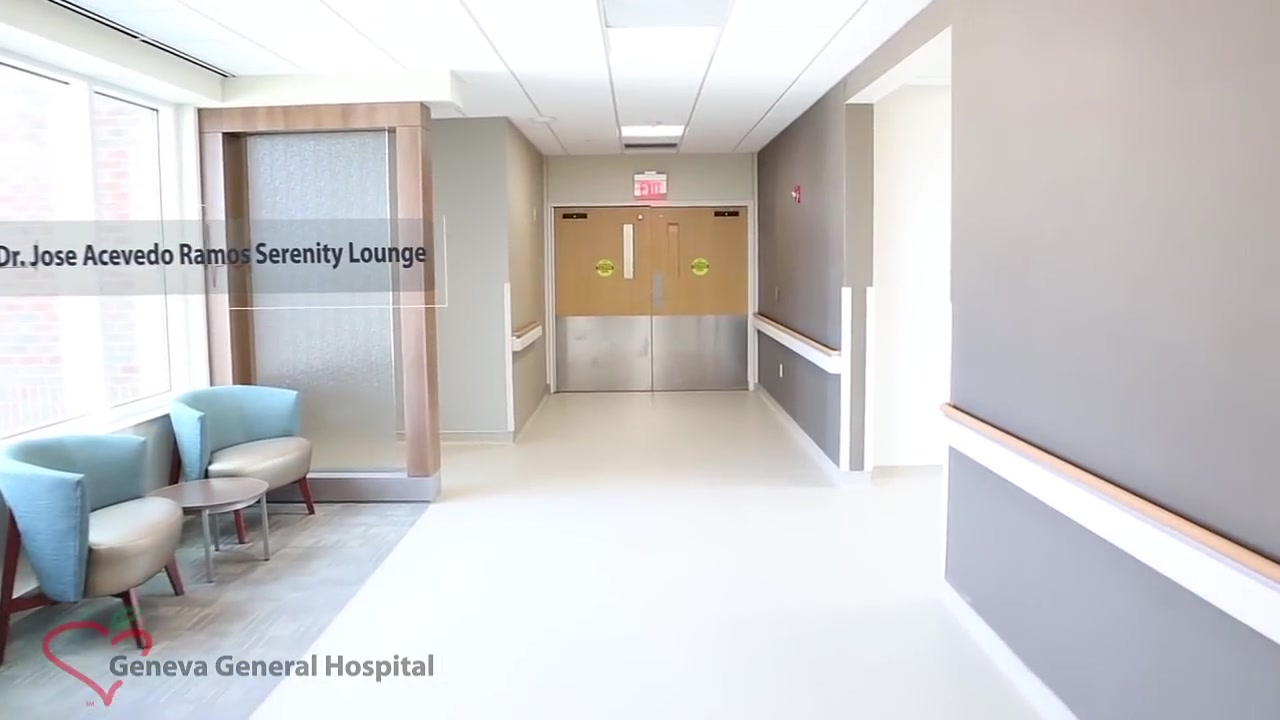hallway_assist_bar: (939, 402, 1280, 585), (752, 312, 841, 357)
push_latch: (512, 321, 543, 339)
sofa: (1, 432, 184, 648), (167, 384, 316, 544)
table: (144, 476, 271, 582)
